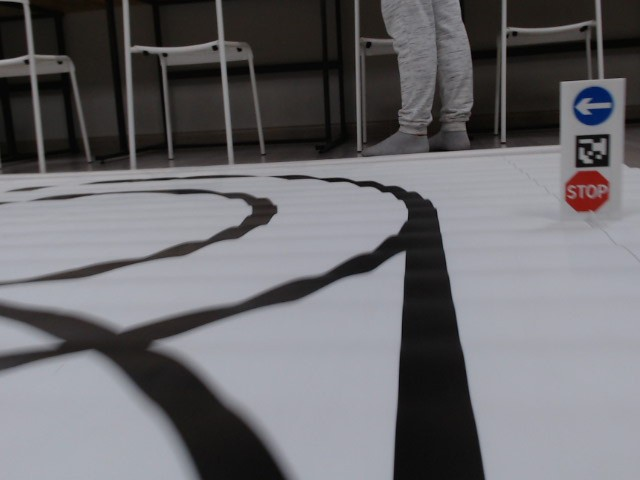Stop: (563, 170, 609, 211)
